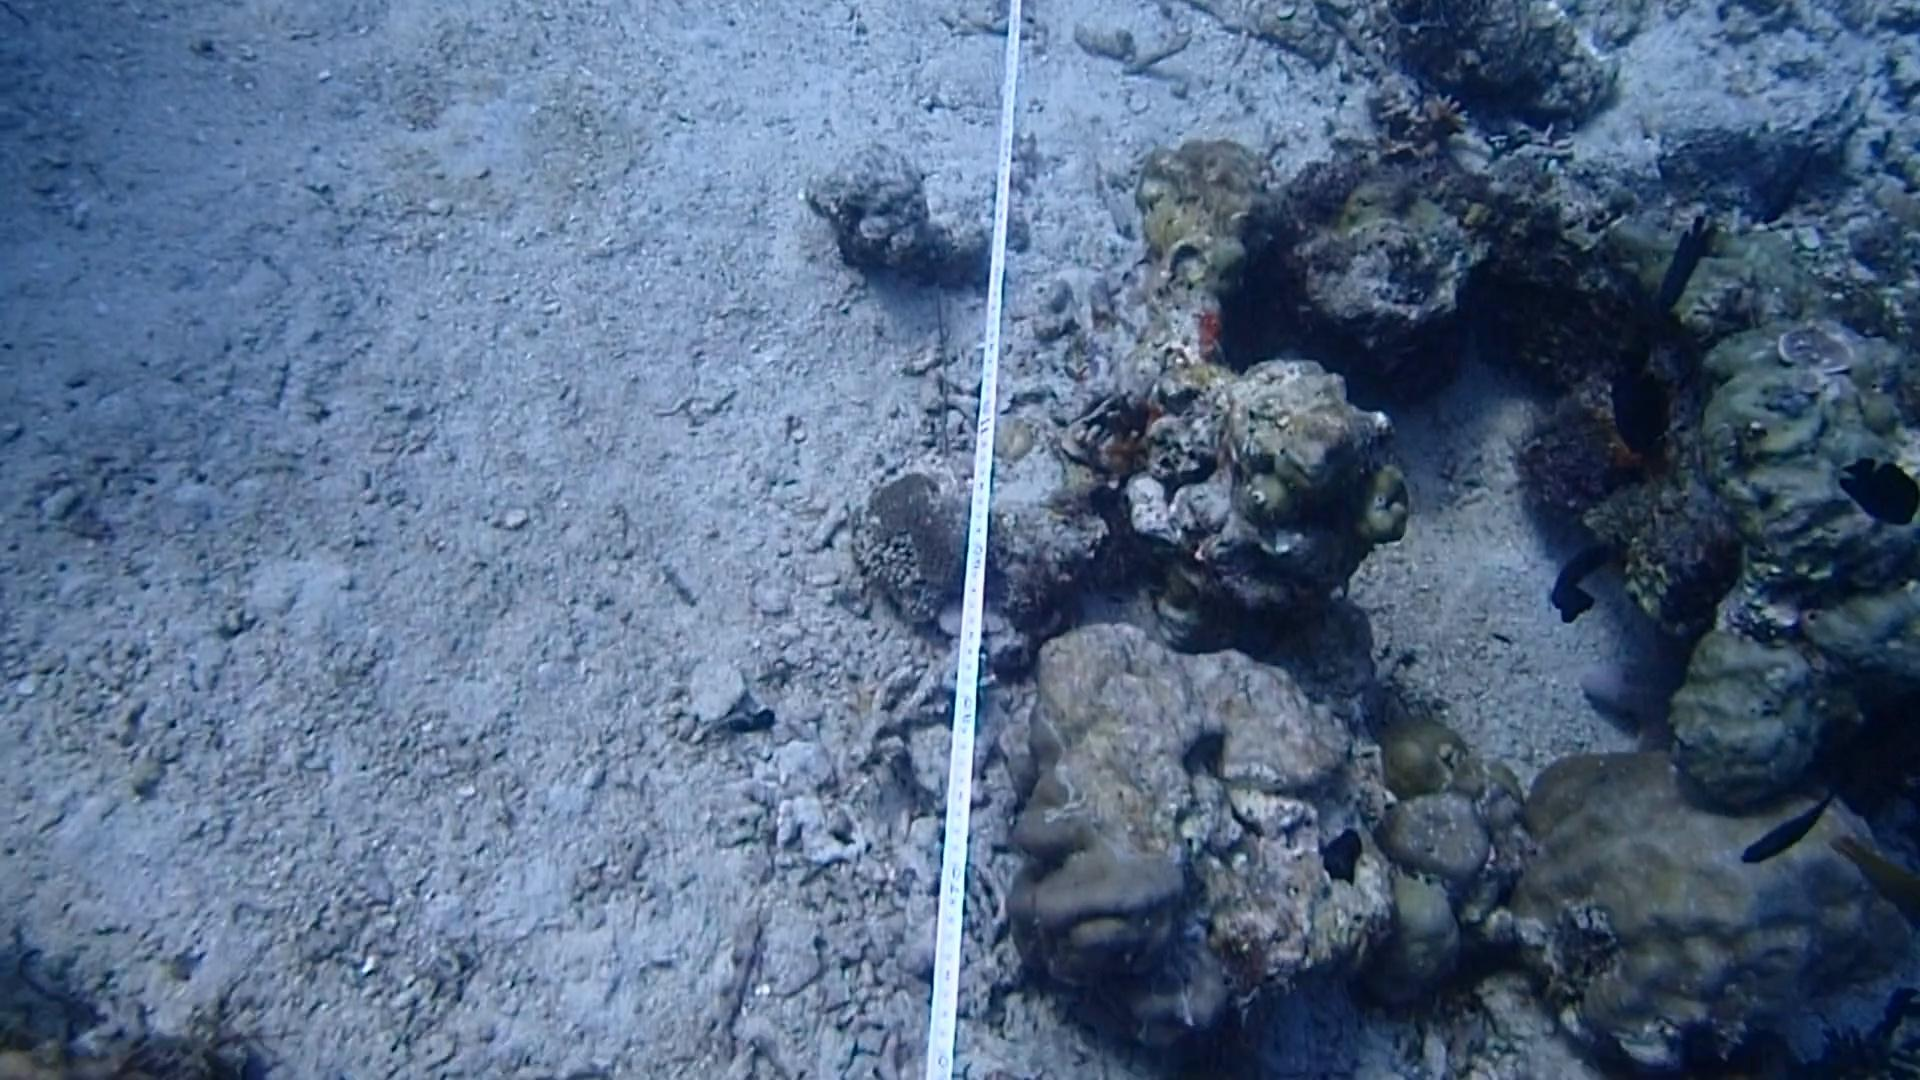Dark Fish: (1593, 344, 1695, 464), (1726, 781, 1833, 869), (1646, 202, 1731, 311), (1833, 439, 1920, 542), (1540, 535, 1623, 634)
Half Blue - Half Yellow: (1824, 816, 1920, 949)
